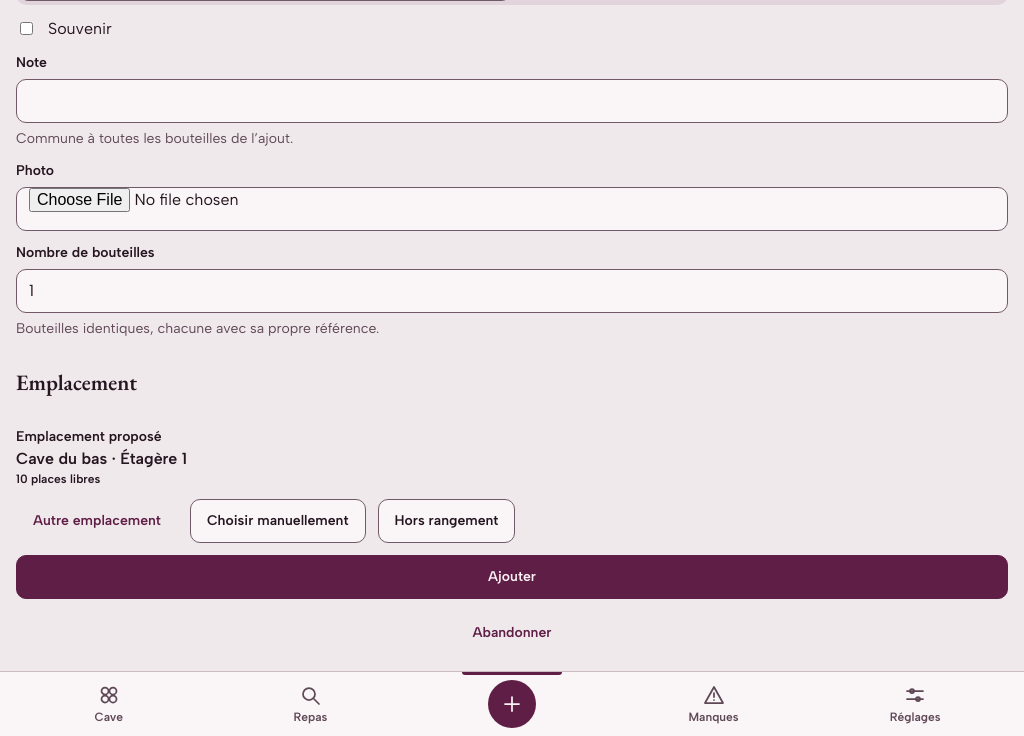
Test: Ajout de bouteilles : formulaire (CdC §3.3) › « Autre emplacement » : la place suivante, puis retour à la première
This screenshot has width=1024, height=736.
(page scrolled)
What coordinates should you click on to do the following:
click the button "Autre emplacement"
I would click on:
 (97, 521)
Its box is [16,499,178,543].
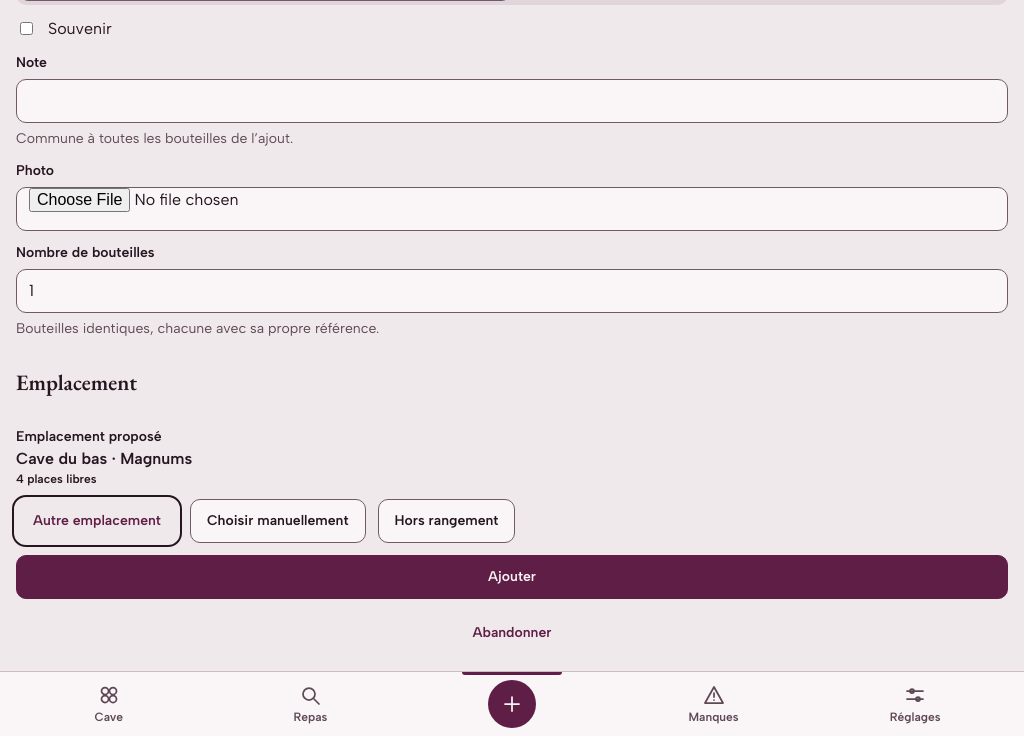
Now the text "Cave du bas · Magnums" is shown, box [16,449,192,468]
What coordinates should you click on to do the following:
click the button "Autre emplacement"
I would click on:
 (97, 521)
Its box is [16,499,178,543].
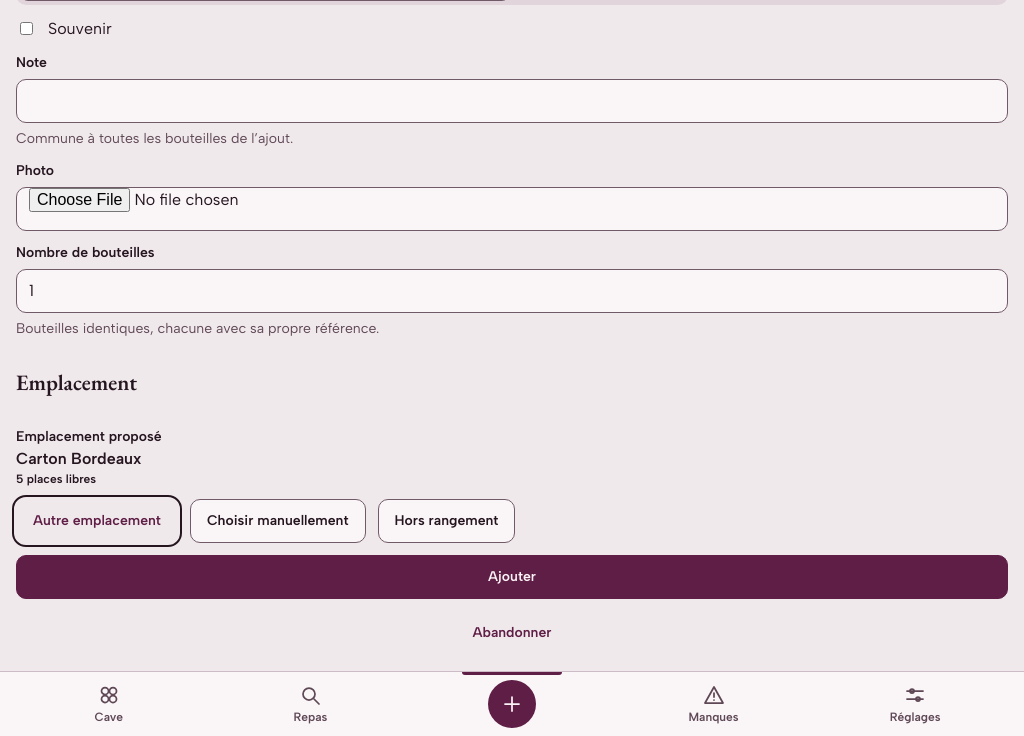
What coordinates should you click on to do the following:
click the button "Autre emplacement"
I would click on:
 (97, 521)
Its box is [16,499,178,543].
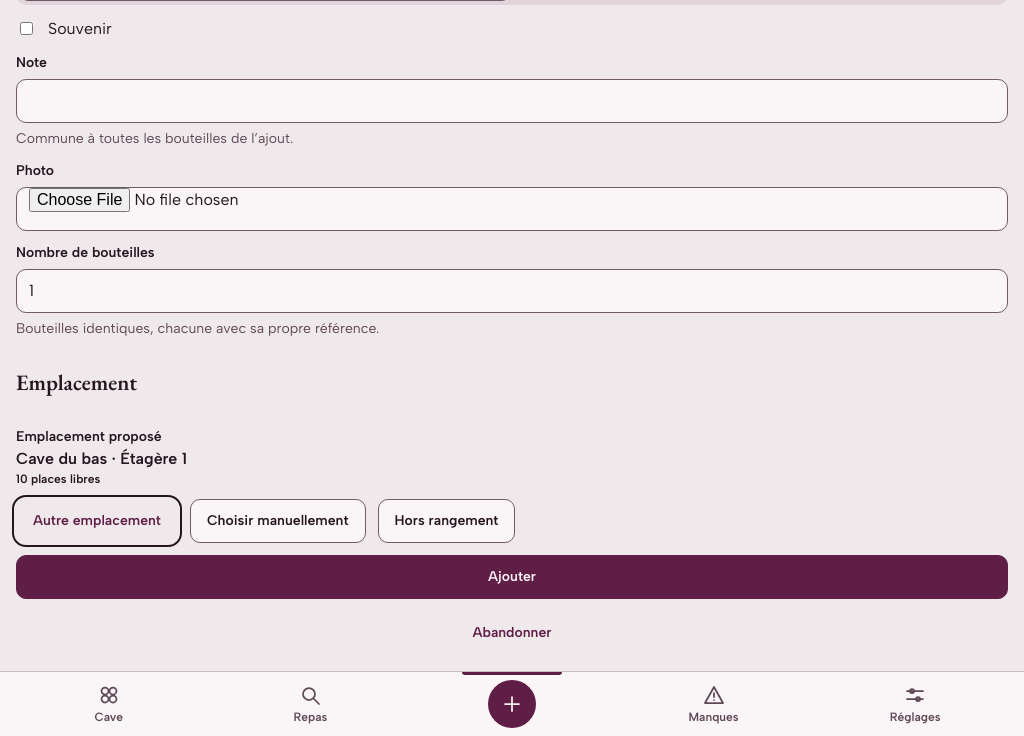
Now the text "Cave du bas · Étagère 1" is shown, box [16,449,187,468]
